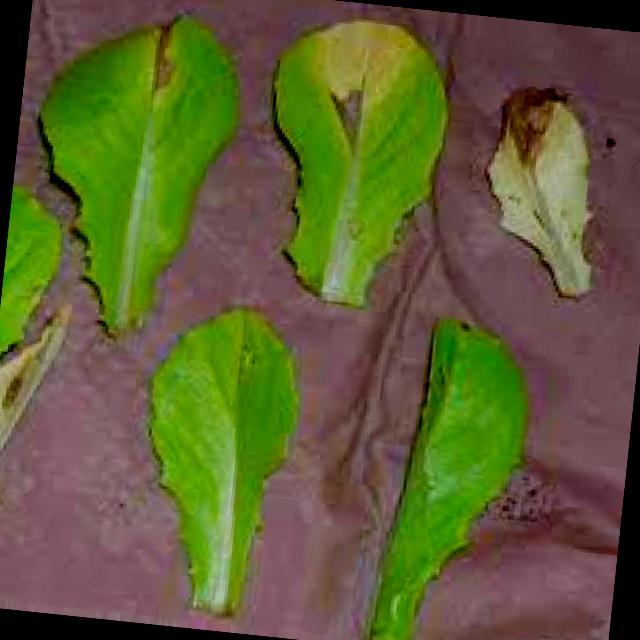Downy_mildew_on_lettuce: (488, 96, 615, 296), (304, 41, 420, 192)
